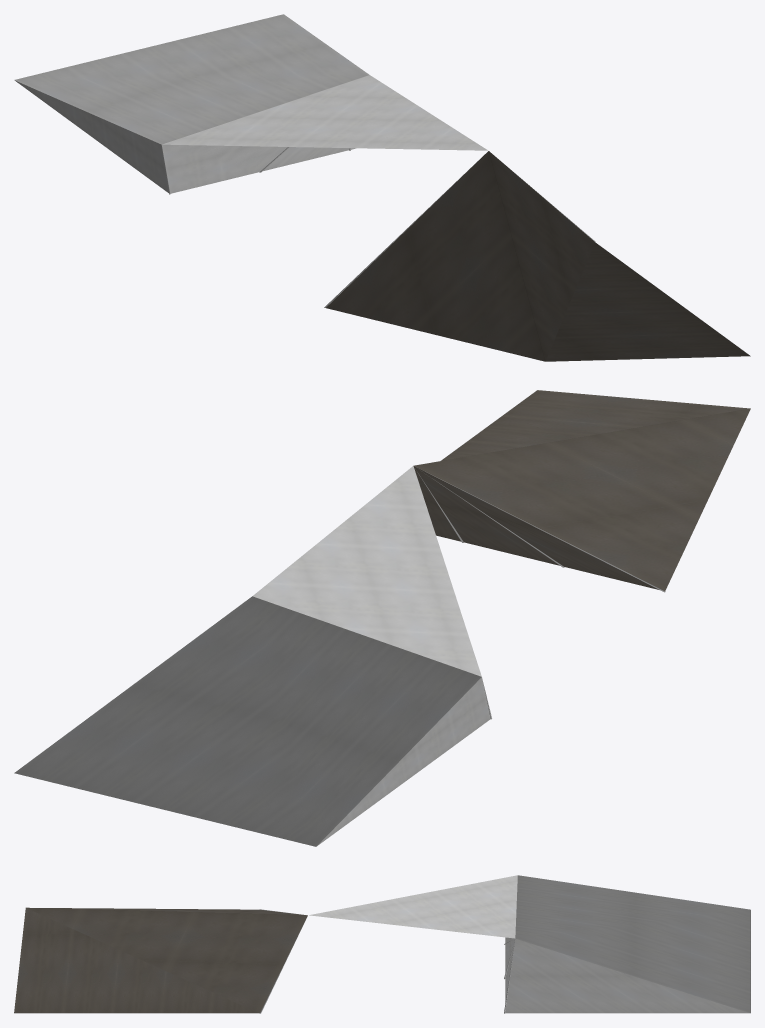
The model's file is GAParkingSheds_LOD2.gltf.
3 renders of one model, top to bottom at view 1: azimuth 30°, elevation 25°; view 2: azimuth 150°, elevation 25°; view 3: azimuth 270°, elevation 25°, orthographic. The views are drawn at different scales.
Visible parts, largest first — view 1: node3; view 2: node3; view 3: node3.
Part boxes in pixels (box(x1,y1,x2,y2)): node3: box(14, 14, 750, 361); node3: box(14, 390, 750, 846); node3: box(14, 875, 750, 1013).
Size of the model in its own units: 10.06 by 3.1 by 30.
